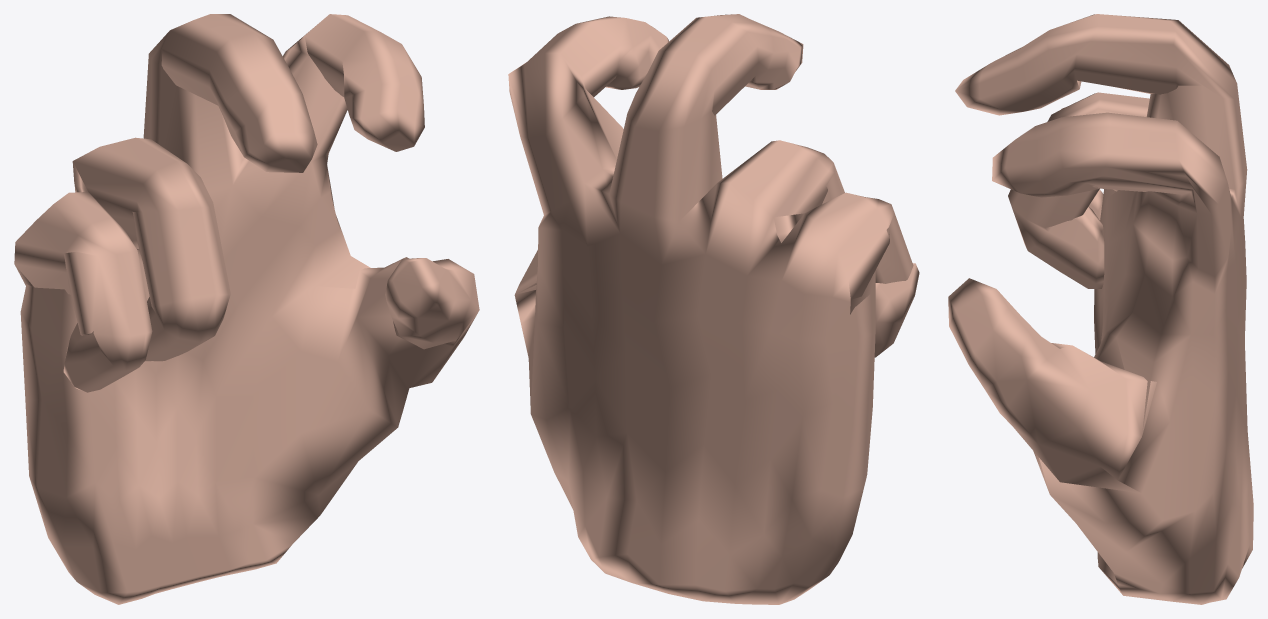
File: FLEXIONADO3.obj
3 renders of one model, left to right at view 1: azimuth 30°, elevation 25°; view 2: azimuth 150°, elevation 25°; view 3: azimuth 270°, elevation 25°, orthographic. The views are drawn at different scales.
Parts seen in each view (by area): view 1: mao_dir:mao_dir; view 2: mao_dir:mao_dir; view 3: mao_dir:mao_dir.
Boxes of the visible parts, left/top/right/bottom form: mao_dir:mao_dir: left=14, top=14, right=479, bottom=604; mao_dir:mao_dir: left=508, top=14, right=919, bottom=604; mao_dir:mao_dir: left=948, top=14, right=1253, bottom=604.
Bounding box in the file's own units: 138 × 188 × 93.71.
